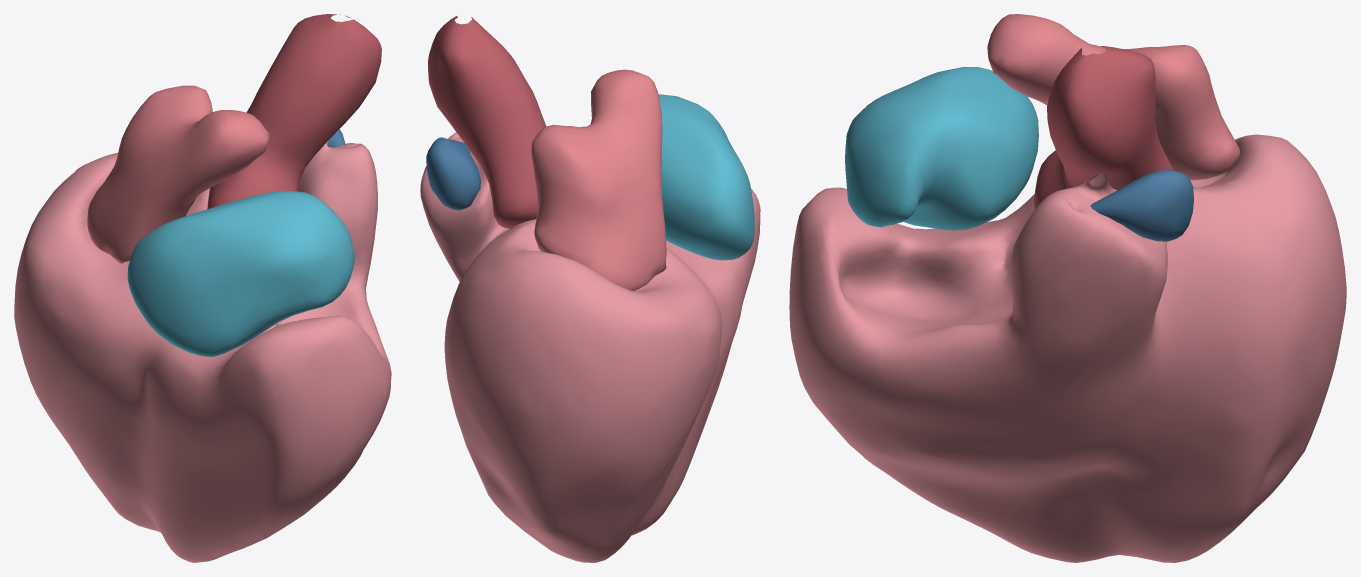
The model's file is frame_60.glb.
3 views of the same model, side by side, from view 1: azimuth 30°, elevation 25°; view 2: azimuth 150°, elevation 25°; view 3: azimuth 270°, elevation 25° (orthographic). The views are drawn at different scales.
Parts seen in each view (by area): view 1: Renderer Node; view 2: Renderer Node; view 3: Renderer Node.
Part boxes in pixels (x1,y1,x2,y2): Renderer Node: (14,14,391,562); Renderer Node: (420,16,760,562); Renderer Node: (789,14,1346,562).
Bounding box in the file's own units: 107 × 164 × 137.
